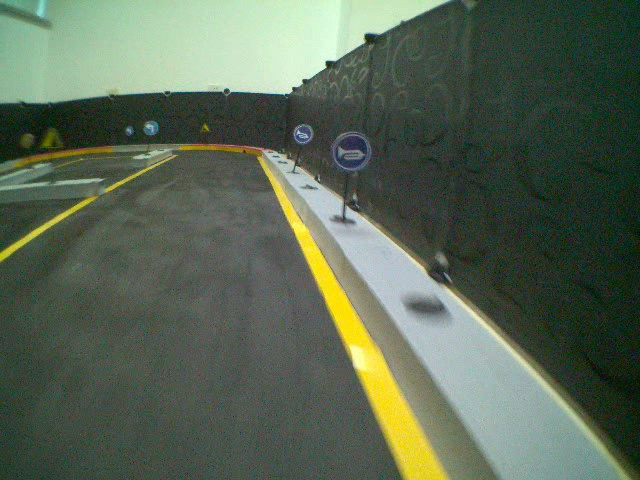fast: (38, 126, 65, 152)
horn: (330, 129, 375, 170), (291, 124, 315, 145)
turn: (142, 120, 160, 137)
